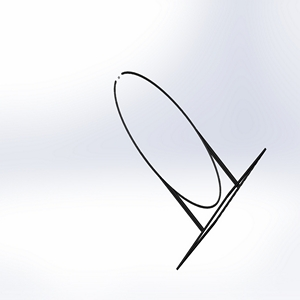circle: (111, 69, 269, 273)
